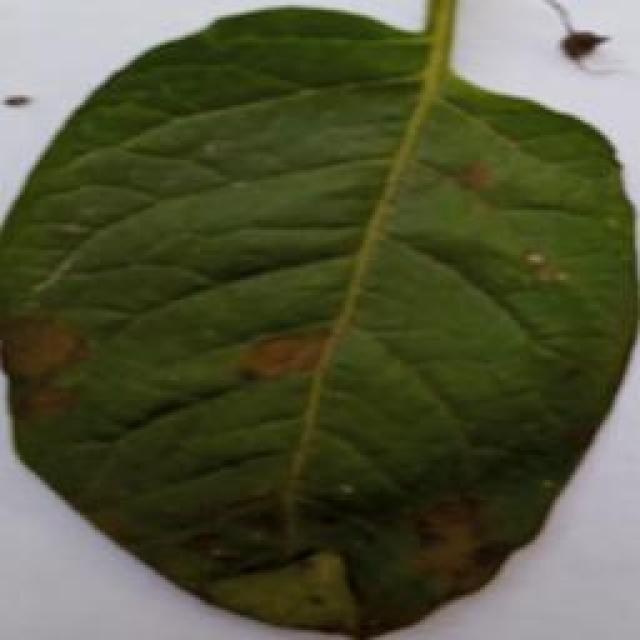Potato_Late_Blight: (4, 11, 634, 637)
